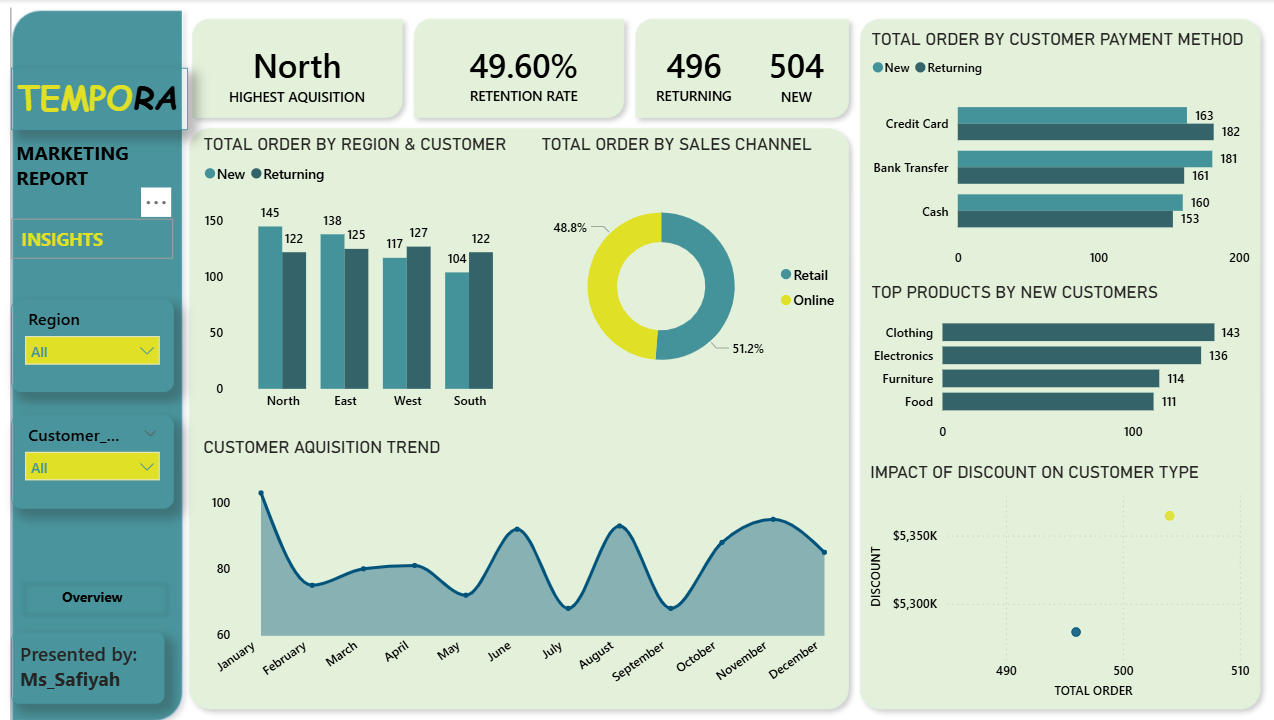

This screenshot's page, from the dashboard's own definition file:
{"tool":"powerbi","page":{"name":"Marketing Report","canvas":[1280,720],"ordinal":2},"visuals":[{"type":"shape","box":[194.8,19.1,1045.2,670.9],"z":0,"group":"g1"},{"type":"clusteredColumnChart","title":"TOTAL ORDER BY REGION & CUSTOMER","fields":{"Category":["sales_data.Region"],"Series":["sales_data.Customer_Type"],"Y":["CountNonNull(sales_data.Product_ID)"]},"box":[205,132.4,319.5,280.1],"z":0},{"type":"textbox","box":[215.2,40.7,833.8,630.2],"z":1000,"group":"g1"},{"type":"clusteredBarChart","title":"TOP PRODUCTS BY NEW CUSTOMERS","fields":{"Category":["sales_data.Product_Category"],"Y":["CountNonNull(sales_data.Product_ID)"]},"box":[859.3,277.5,380.6,165.5],"z":1000},{"type":"clusteredBarChart","title":"TOTAL ORDER BY  CUSTOMER PAYMENT METHOD","fields":{"Category":["sales_data.Payment_Method"],"Series":["sales_data.Customer_Type"],"Y":["CountNonNull(sales_data.Product_ID)"]},"box":[859.3,29.3,380.6,243.1],"z":2000},{"type":"actionButton","box":[1111.4,31.8,100.6,39.5],"z":2000,"group":"g1"},{"type":"donutChart","title":" TOTAL ORDER BY SALES CHANNEL","fields":{"Category":["sales_data.Sales_Channel"],"Y":["CountNonNull(sales_data.Product_ID)"]},"box":[535.7,132.9,305.7,280],"z":3000},{"type":"scatterChart","title":"IMPACT OF DISCOUNT ON CUSTOMER TYPE","fields":{"Category":["sales_data.Customer_Type"],"X":["CountNonNull(sales_data.Product_ID)"],"Y":["Sum(sales_data.Discount_price)"]},"box":[858.6,452.9,381.4,237.1],"z":4000},{"type":"lineChart","title":"CUSTOMER AQUISITION TREND","fields":{"Category":["sales_data.Sale_Date.Variation.Date Hierarchy.Month"],"Y":["CountNonNull(sales_data.Product_ID)"]},"box":[205,429,637.8,261],"z":5000},{"type":"PBI_CV_7B952816_A48F_49B4_9E13_15E3BB2C0337","fields":{"Values":["Min(sales_data.Region)"]},"box":[204.3,18.6,195.7,97.1],"z":6000},{"type":"PBI_CV_7B952816_A48F_49B4_9E13_15E3BB2C0337","fields":{"Values":["sales_data.Retention Rate %"]},"box":[420.1,19.1,206.2,96.8],"z":7000},{"type":"PBI_CV_7B952816_A48F_49B4_9E13_15E3BB2C0337","fields":{"Values":["sales_data.Returning Customers"]},"box":[640.3,19.1,99.3,96.8],"z":8000},{"type":"PBI_CV_7B952816_A48F_49B4_9E13_15E3BB2C0337","fields":{"Values":["sales_data.New Customers"]},"box":[740,18.6,101.4,97.1],"z":9000},{"type":"slicer","fields":{"Values":["sales_data.Region"]},"box":[21.6,294.1,159.1,90.4],"z":10000},{"type":"slicer","fields":{"Values":["sales_data.Customer_Type"]},"box":[21.6,407.4,159.1,91.7],"z":11000},{"type":"textbox","box":[21.6,67.5,173.1,61.1],"z":12000},{"type":"textbox","box":[21.6,620,150.2,70],"z":13000},{"type":"pageNavigator","box":[21.6,560.1,159.1,49.6],"z":14000},{"type":"textbox","box":[21.6,132.4,169.3,61.1],"z":15000},{"type":"group","id":"g1","title":"INSIHTS M","box":[194.8,19.1,1045.2,670.9],"z":16000},{"type":"actionButton","box":[21.6,215.1,157.9,39.5],"z":17000}]}

Visuals, with their boxes in screenshot pixels (x1, y1, x2, y2), scaled from the page's 1280x720 canvas onto the 1274x720 screenshot:
shape: (x1=194, y1=19, x2=1234, y2=690)
"TOTAL ORDER BY REGION & CUSTOMER" clusteredColumnChart: (x1=204, y1=132, x2=522, y2=412)
textbox: (x1=214, y1=41, x2=1044, y2=671)
"TOP PRODUCTS BY NEW CUSTOMERS" clusteredBarChart: (x1=855, y1=278, x2=1234, y2=443)
"TOTAL ORDER BY  CUSTOMER PAYMENT METHOD" clusteredBarChart: (x1=855, y1=29, x2=1234, y2=272)
actionButton: (x1=1106, y1=32, x2=1206, y2=71)
" TOTAL ORDER BY SALES CHANNEL" donutChart: (x1=533, y1=133, x2=837, y2=413)
"IMPACT OF DISCOUNT ON CUSTOMER TYPE" scatterChart: (x1=855, y1=453, x2=1234, y2=690)
"CUSTOMER AQUISITION TREND" lineChart: (x1=204, y1=429, x2=839, y2=690)
PBI_CV_7B952816_A48F_49B4_9E13_15E3BB2C0337 - Min(sales_data.Region): (x1=203, y1=19, x2=398, y2=116)
PBI_CV_7B952816_A48F_49B4_9E13_15E3BB2C0337 - sales_data.Retention Rate %: (x1=418, y1=19, x2=623, y2=116)
PBI_CV_7B952816_A48F_49B4_9E13_15E3BB2C0337 - sales_data.Returning Customers: (x1=637, y1=19, x2=736, y2=116)
PBI_CV_7B952816_A48F_49B4_9E13_15E3BB2C0337 - sales_data.New Customers: (x1=737, y1=19, x2=837, y2=116)
slicer - sales_data.Region: (x1=21, y1=294, x2=180, y2=384)
slicer - sales_data.Customer_Type: (x1=21, y1=407, x2=180, y2=499)
textbox: (x1=21, y1=68, x2=194, y2=129)
textbox: (x1=21, y1=620, x2=171, y2=690)
pageNavigator: (x1=21, y1=560, x2=180, y2=610)
textbox: (x1=21, y1=132, x2=190, y2=194)
"INSIHTS M" group: (x1=194, y1=19, x2=1234, y2=690)
actionButton: (x1=21, y1=215, x2=179, y2=255)
